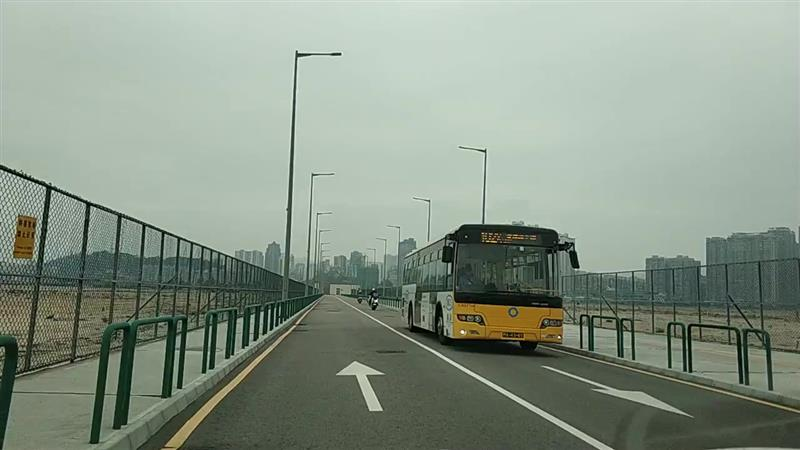bus: (400, 224, 581, 352)
motorcycle: (368, 287, 380, 312), (354, 287, 365, 305)
roadDown: (539, 362, 695, 418)
roadUp: (336, 360, 387, 412)
